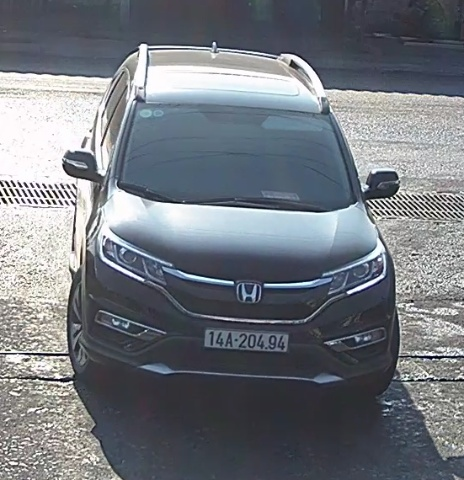vehicle plate: (197, 323, 297, 356)
